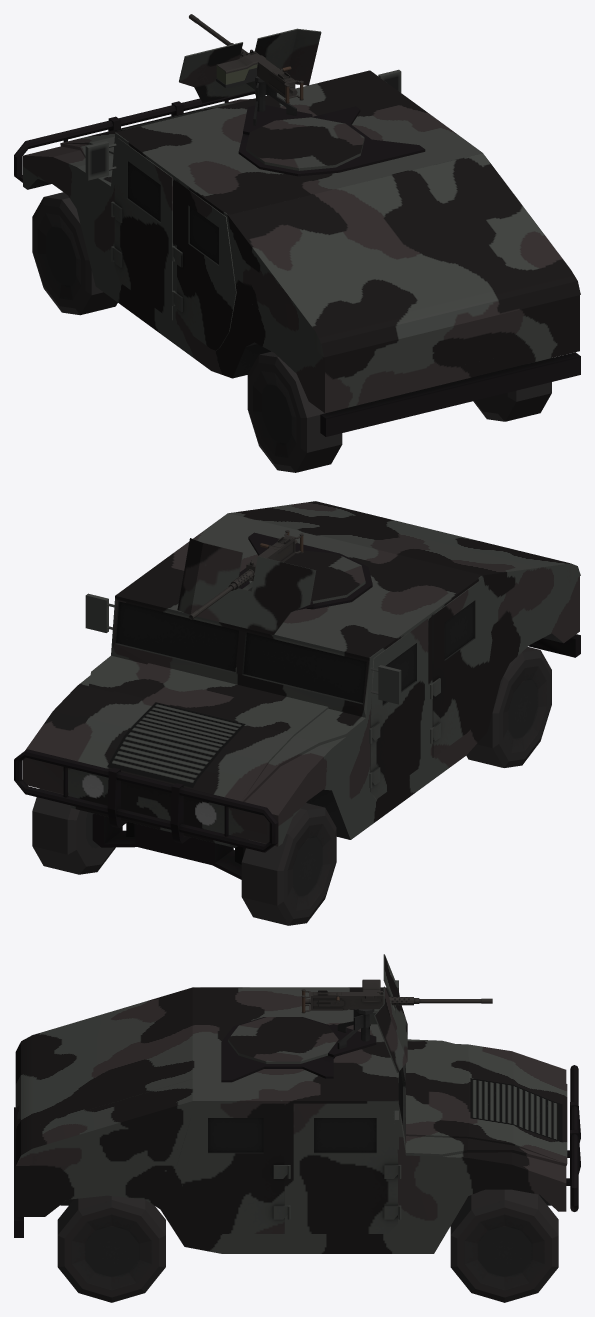
The model's file is Humvee.fbx.
3 views of the same model, one above another, from view 1: azimuth 30°, elevation 25°; view 2: azimuth 150°, elevation 25°; view 3: azimuth 270°, elevation 25° (orthographic). The views are drawn at different scales.
Visible parts, largest first — view 1: HMMWV_Body (×2), HMMWV_Trunk_Upper, HMMWV_Trunk_Left, HMMWV_Door_Front_Left, HMMWV_Trunk_Right, HMMWV_Door_Rear_Left, HMMWV_Wheel_Back_Left, HMMWV_Trunk_Lower, HMMWV_Wheel_Front_Left, HMMWV_HMMWV_Gun_Shield, HMMWV_Turret_Ring, HMMWV_Turret_Cover_Left (+5 smaller); view 2: HMMWV_Body (×2), HMMWV_HMMWV_Gun_Shield, HMMWV_Wheel_Front_Left, HMMWV_Door_Rear_Left, HMMWV_Door_Front_Left, HMMWV_Bumper, HMMWV_Wheel_Back_Left, HMMWV_Trunk_Left, HMMWV_Trunk_Upper, HMMWV_Wheel_Front_Right, HMMWV_Axle_Front, HMMWV_Turret_Cover_Left (+5 smaller); view 3: HMMWV_Body (×2), HMMWV_Door_Front_Right, HMMWV_Door_Rear_Right, HMMWV_Trunk_Upper, HMMWV_Wheel_Front_Right, HMMWV_Trunk_Right, HMMWV_Wheel_Back_Right, HMMWV_Trunk_Left, HMMWV_Turret_Ring, HMMWV_Turret_Cover_right, HMMWV_HMMWV_Gun_Shield, HMMWV_Turret_Cover_Left (+2 smaller).
Boxes of the visible parts, x1,y1,x2,y2 form: HMMWV_Body (×2): (23, 14, 580, 436); HMMWV_Trunk_Upper: (277, 165, 530, 344); HMMWV_Trunk_Left: (228, 203, 374, 357); HMMWV_Door_Front_Left: (111, 138, 172, 320); HMMWV_Trunk_Right: (434, 153, 580, 306); HMMWV_Door_Rear_Left: (172, 181, 236, 350); HMMWV_Wheel_Back_Left: (247, 351, 342, 472); HMMWV_Trunk_Lower: (374, 307, 530, 386); HMMWV_Wheel_Front_Left: (32, 192, 117, 315); HMMWV_HMMWV_Gun_Shield: (179, 28, 321, 103); HMMWV_Turret_Ring: (238, 105, 425, 176); HMMWV_Turret_Cover_Left: (246, 120, 335, 170); HMMWV_Body (×2): (23, 513, 580, 847); HMMWV_HMMWV_Gun_Shield: (177, 538, 316, 634); HMMWV_Wheel_Front_Left: (241, 803, 336, 925); HMMWV_Door_Rear_Left: (430, 579, 492, 757); HMMWV_Door_Front_Left: (369, 619, 428, 799); HMMWV_Bumper: (14, 749, 278, 852); HMMWV_Wheel_Back_Left: (466, 647, 551, 767); HMMWV_Trunk_Left: (434, 551, 580, 637); HMMWV_Trunk_Upper: (278, 513, 520, 563); HMMWV_Wheel_Front_Right: (32, 788, 115, 874); HMMWV_Axle_Front: (92, 813, 248, 879); HMMWV_Turret_Cover_Left: (311, 553, 365, 603); HMMWV_Body (×2): (14, 987, 567, 1253); HMMWV_Door_Front_Right: (293, 1103, 401, 1233); HMMWV_Door_Rear_Right: (176, 1103, 290, 1233); HMMWV_Trunk_Upper: (15, 1009, 192, 1142); HMMWV_Wheel_Front_Right: (450, 1189, 558, 1302); HMMWV_Trunk_Right: (15, 1079, 192, 1165); HMMWV_Wheel_Back_Right: (57, 1195, 165, 1302); HMMWV_Trunk_Left: (15, 987, 192, 1073); HMMWV_Turret_Ring: (221, 1017, 376, 1082); HMMWV_Turret_Cover_right: (228, 1039, 338, 1063); HMMWV_HMMWV_Gun_Shield: (369, 954, 407, 1072); HMMWV_Turret_Cover_Left: (228, 1017, 338, 1039).
Bounding box in the file's own units: 9.74 × 8.64 × 16.74.
